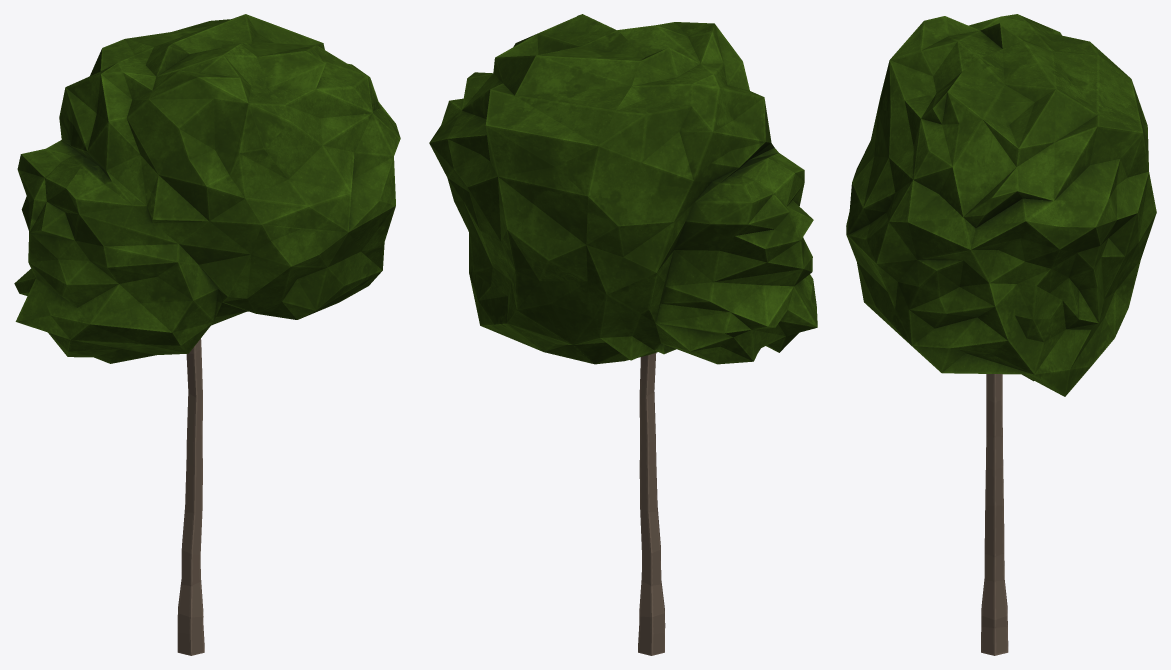
File: BrazilNutTree.gltf
3 renders of one model, left to right at view 1: azimuth 30°, elevation 25°; view 2: azimuth 150°, elevation 25°; view 3: azimuth 270°, elevation 25°, orthographic.
Parts seen in each view (by area): view 1: node-0; view 2: node-0; view 3: node-0.
Part boxes in pixels (x1,y1,x2,y2): node-0: (14, 14, 400, 655); node-0: (429, 14, 817, 655); node-0: (846, 14, 1156, 655).
Size of the model in its own units: 8.95 by 14.25 by 6.51.
1 material, 1 textured.
